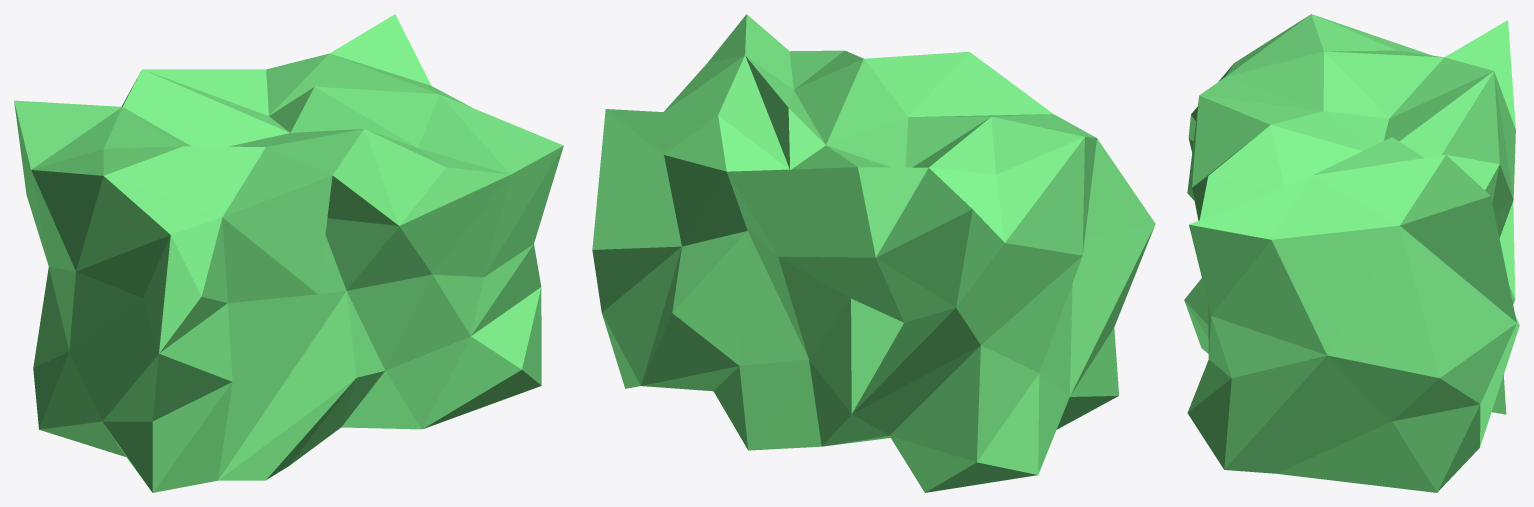
The model's file is buisson_02_lowpoly.fbx.
3 renders of one model, left to right at view 1: azimuth 30°, elevation 25°; view 2: azimuth 150°, elevation 25°; view 3: azimuth 270°, elevation 25°, orthographic. The views are drawn at different scales.
Visible parts, largest first — view 1: Cube.010; view 2: Cube.010; view 3: Cube.010.
Boxes of the visible parts, bbox=[...] form: Cube.010: bbox=[14, 14, 563, 492]; Cube.010: bbox=[592, 14, 1155, 492]; Cube.010: bbox=[1184, 14, 1519, 492].
Size of the model in its own units: 2.86 by 1.98 by 1.97.
